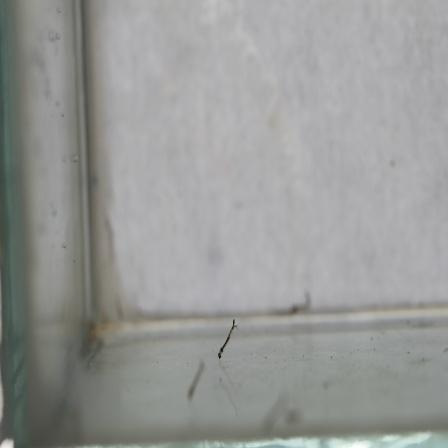Jentik-Nyamuk: (213, 315, 243, 362)
